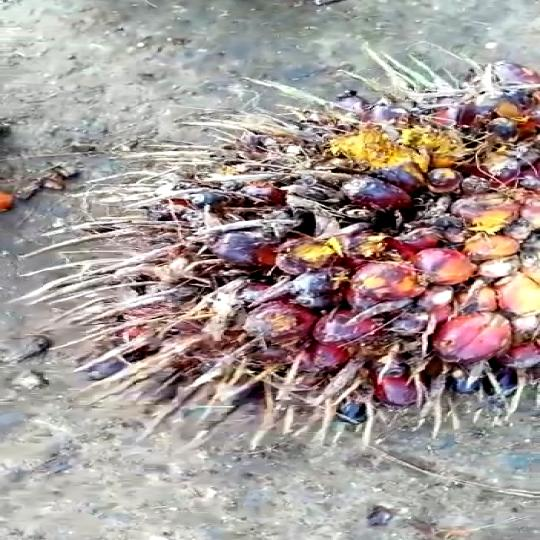terlalu masak: (117, 66, 540, 460)
